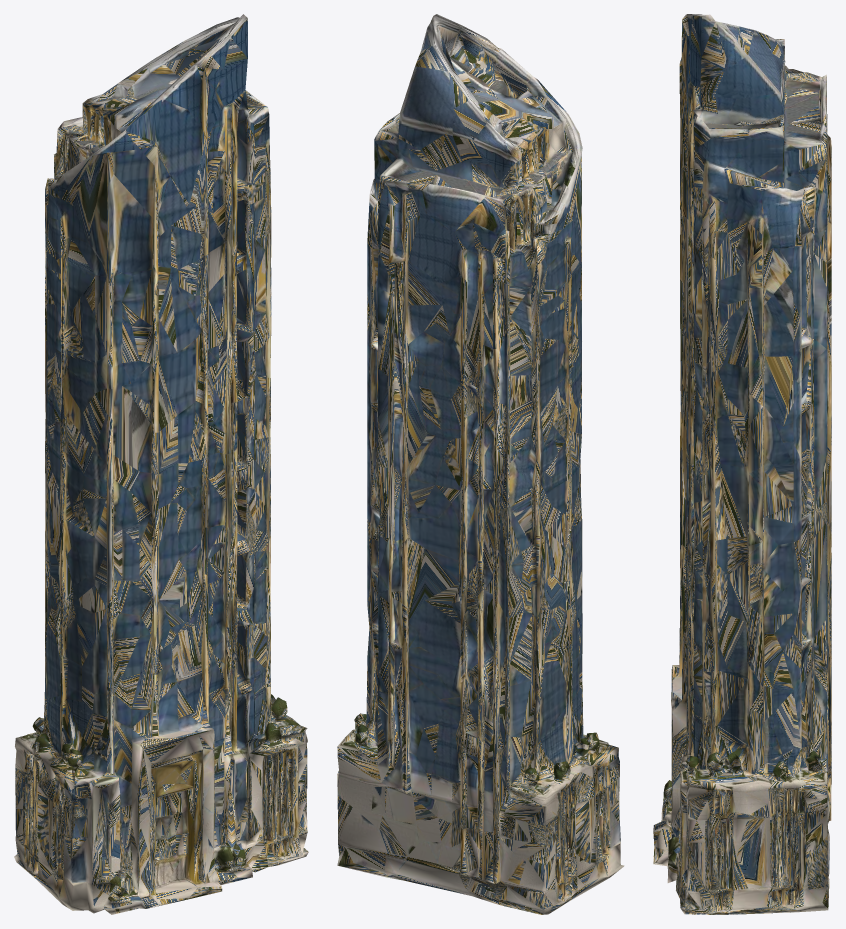
The model's file is tower_slim.glb.
3 views of the same model, side by side, from view 1: azimuth 30°, elevation 25°; view 2: azimuth 150°, elevation 25°; view 3: azimuth 270°, elevation 25° (orthographic). The views are drawn at different scales.
Parts seen in each view (by area): view 1: Mesh_0; view 2: Mesh_0; view 3: Mesh_0.
Part boxes in pixels (box(x1,y1,x2,y2)): Mesh_0: box(14, 14, 308, 914); Mesh_0: box(337, 14, 624, 914); Mesh_0: box(653, 14, 831, 914).
Size of the model in its own units: 41.22 by 140 by 25.84.
1 material, 1 textured.
